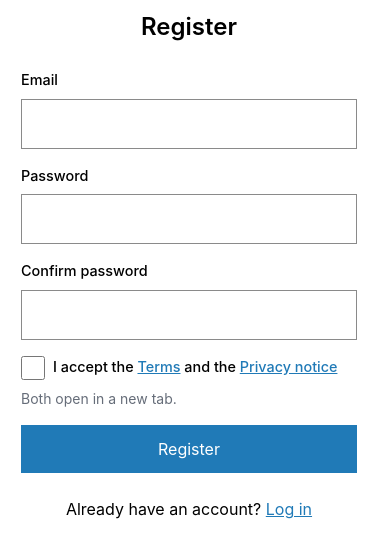
RegisterPage › submitting › registers and goes straight to the login page, which confirms it
The image size is (379, 536).
Step 1. Type "user@example.com" into the field labelled "Email" → coordinates (189, 124), box [21,99,357,149]
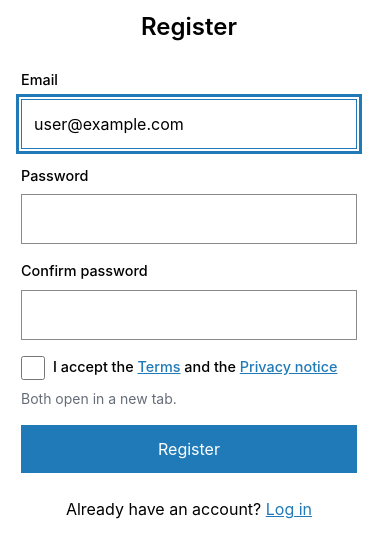
Step 2. Type "Password123" into the password field labelled "Password" → coordinates (189, 219), box [21,194,357,244]
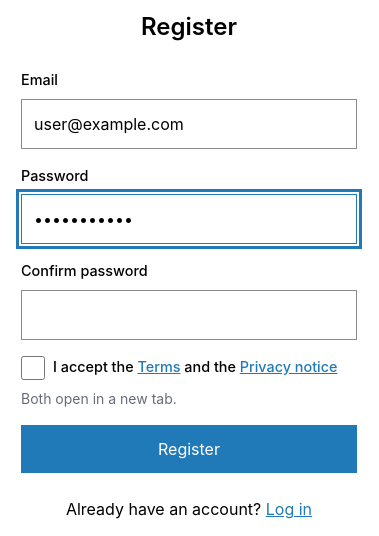
Step 3. Type "Password123" into the password field labelled "Confirm password" → coordinates (189, 315), box [21,290,357,340]
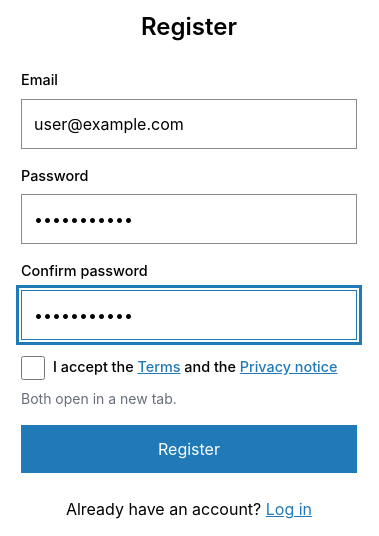
Step 4. Click the checkbox labelled "I accept the Terms and the Privacy notice" → coordinates (33, 368), box [21,356,45,380]
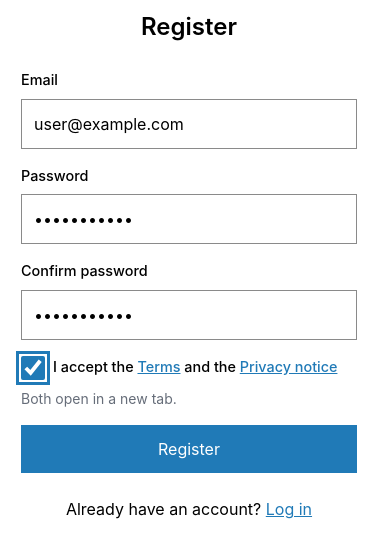
Step 5. Click the button "Register" → coordinates (189, 449), box [21,425,357,473]
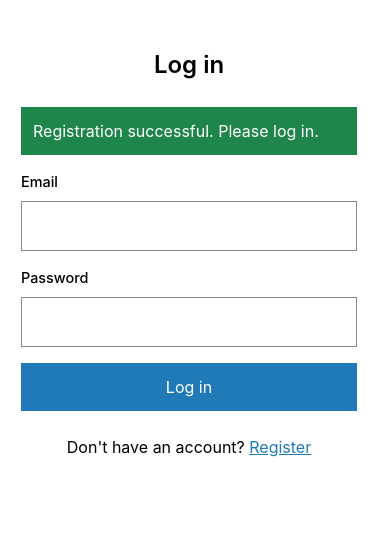
Now the heading "Log in" is shown, box [154,50,224,79]
